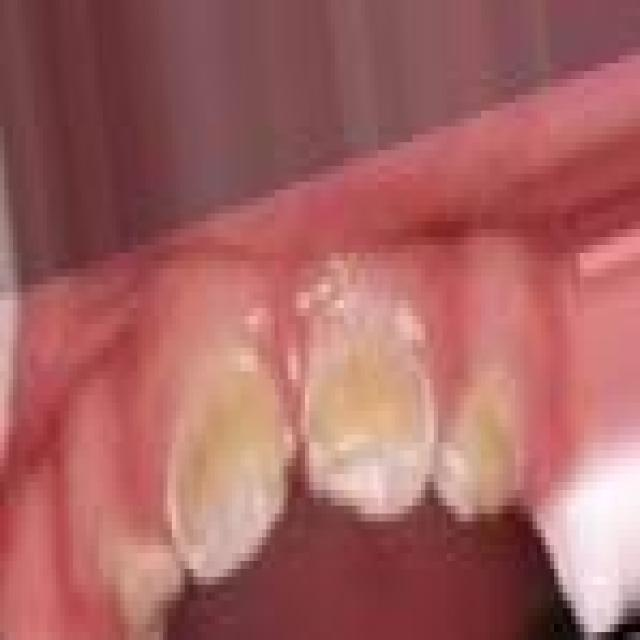caries: (163, 334, 295, 596), (298, 312, 439, 526), (436, 370, 522, 536)
